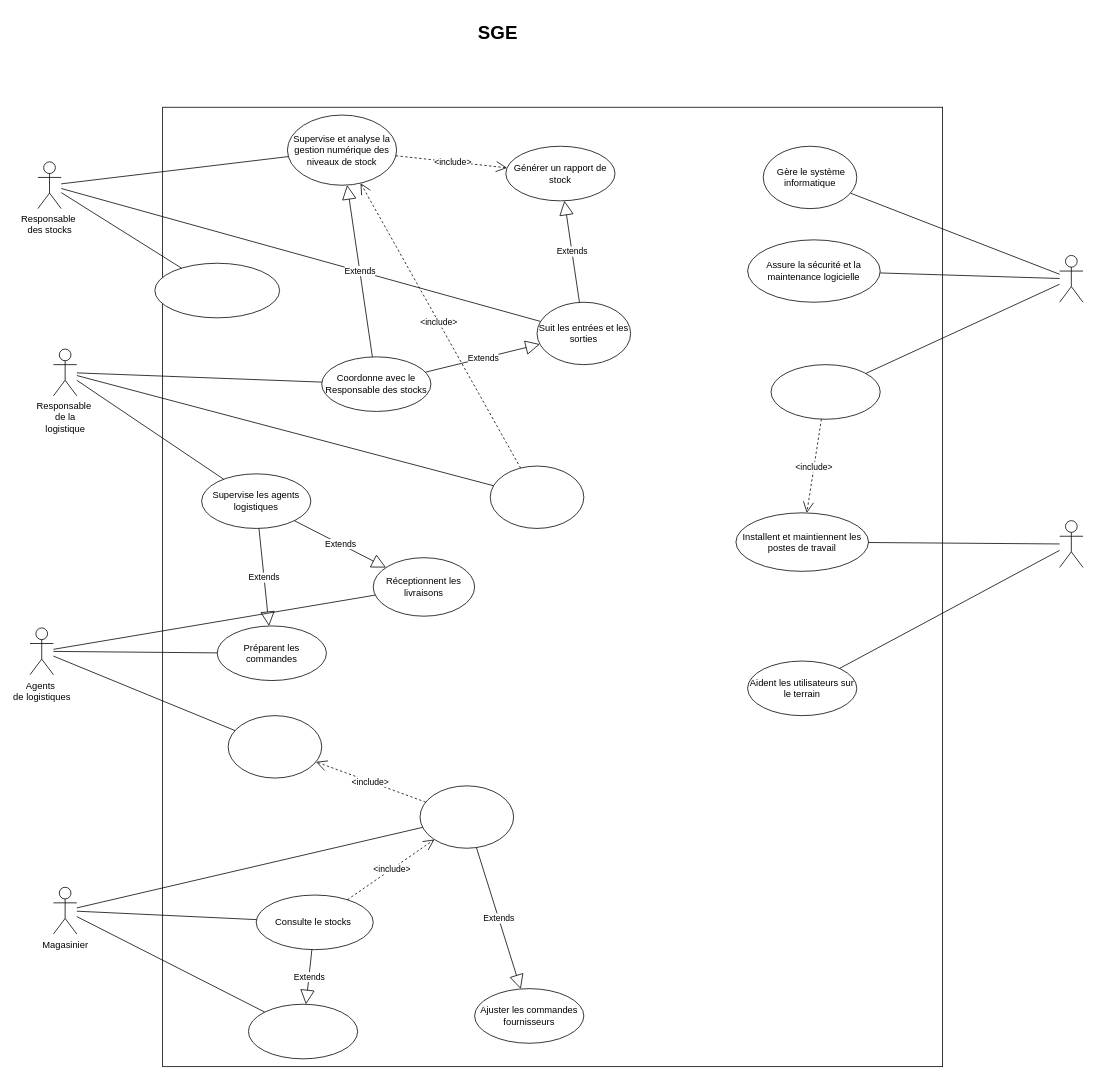
The diagram is 1113 pixels wide and 1080 high, and some of its shapes have lost their labels. Each missing label, with the box of its shape:
Alerte en cas de rupture de stock: (248, 1003, 358, 1059)
Définit les rôles et droits d'accès: (770, 364, 880, 419)
Enregistre les mouvements de stocks: (419, 785, 514, 848)
Planifie les flux entrants et sortants: (489, 465, 584, 528)
Responsable informatique: (1059, 255, 1083, 302)
Saisissent les données des produits sortants et entrants: (227, 715, 322, 778)
Techniciens informatiques: (1059, 520, 1083, 567)
Vérifie les mouvements enregistrés et consulte les emplacements: (154, 262, 280, 318)
